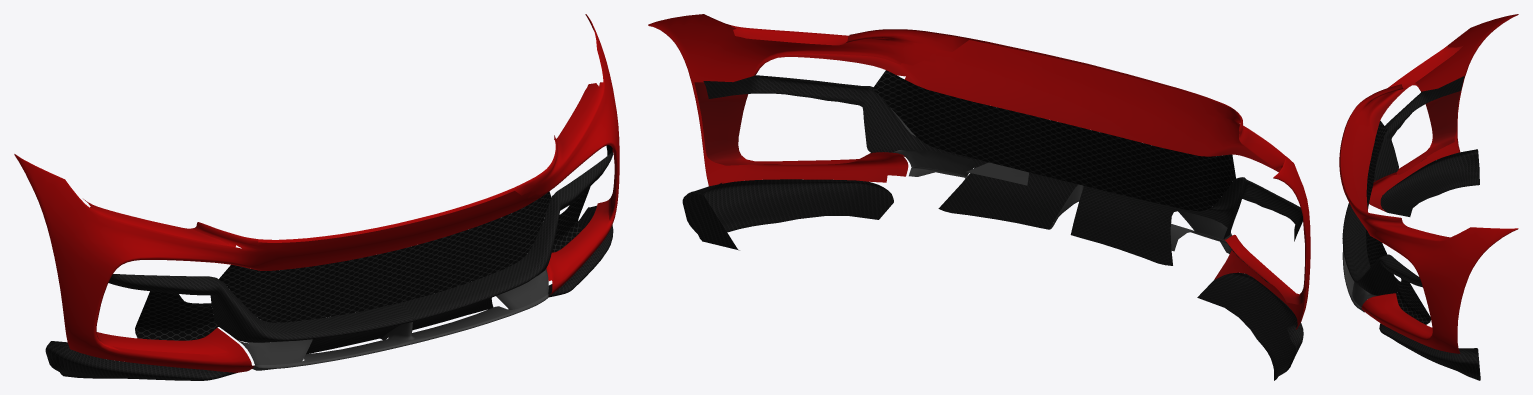
File: bumper_f.glb
3 views of the same model, side by side, from view 1: azimuth 30°, elevation 25°; view 2: azimuth 150°, elevation 25°; view 3: azimuth 270°, elevation 25° (orthographic). The views are drawn at different scales.
Parts seen in each view (by area): view 1: Coloured_Geo_lodA_Ferrari_PurosangueRewardRecycled_2023Colo. (×2), Grille1_Geo_lodA_Ferrari_PurosangueRewardRecycled_2023Grille, Carbon2_Geo_lodA_Ferrari_PurosangueRewardRecycled_2023Carbo.; view 2: Coloured_Geo_lodA_Ferrari_PurosangueRewardRecycled_2023Colo. (×2), Grille1_Geo_lodA_Ferrari_PurosangueRewardRecycled_2023Grille, Carbon2_Geo_lodA_Ferrari_PurosangueRewardRecycled_2023Carbo.; view 3: Coloured_Geo_lodA_Ferrari_PurosangueRewardRecycled_2023Colo. (×2), Carbon2_Geo_lodA_Ferrari_PurosangueRewardRecycled_2023Carbo., Grille1_Geo_lodA_Ferrari_PurosangueRewardRecycled_2023Grille.
Part boxes in pixels (<box>): Coloured_Geo_lodA_Ferrari_PurosangueRewardRecycled_2023Colo. (×2): <box>14,14,619,372</box>; Grille1_Geo_lodA_Ferrari_PurosangueRewardRecycled_2023Grille: <box>135,186,590,340</box>; Carbon2_Geo_lodA_Ferrari_PurosangueRewardRecycled_2023Carbo.: <box>45,341,237,380</box>; Coloured_Geo_lodA_Ferrari_PurosangueRewardRecycled_2023Colo. (×2): <box>648,14,1310,329</box>; Grille1_Geo_lodA_Ferrari_PurosangueRewardRecycled_2023Grille: <box>872,70,1269,283</box>; Carbon2_Geo_lodA_Ferrari_PurosangueRewardRecycled_2023Carbo.: <box>1197,272,1303,380</box>; Coloured_Geo_lodA_Ferrari_PurosangueRewardRecycled_2023Colo. (×2): <box>1339,14,1518,380</box>; Carbon2_Geo_lodA_Ferrari_PurosangueRewardRecycled_2023Carbo.: <box>1380,149,1479,216</box>; Grille1_Geo_lodA_Ferrari_PurosangueRewardRecycled_2023Grille: <box>1366,121,1430,324</box>.
Size of the model in its own units: 0.0195 by 0.00687 by 0.00689.
Materials: 4 (2 with a texture image).
